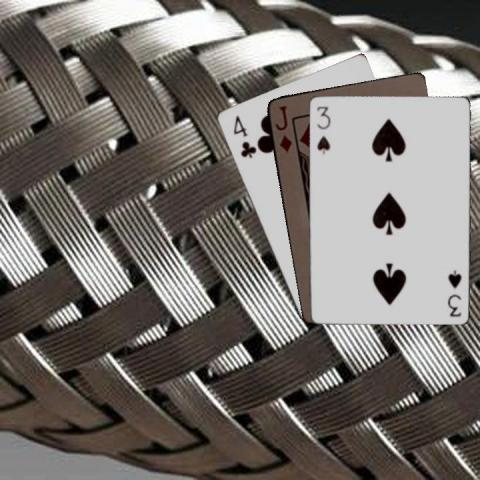3s: (444, 267, 463, 317), (314, 102, 332, 154)
4c: (230, 113, 257, 160)
Jd: (271, 102, 294, 154)
